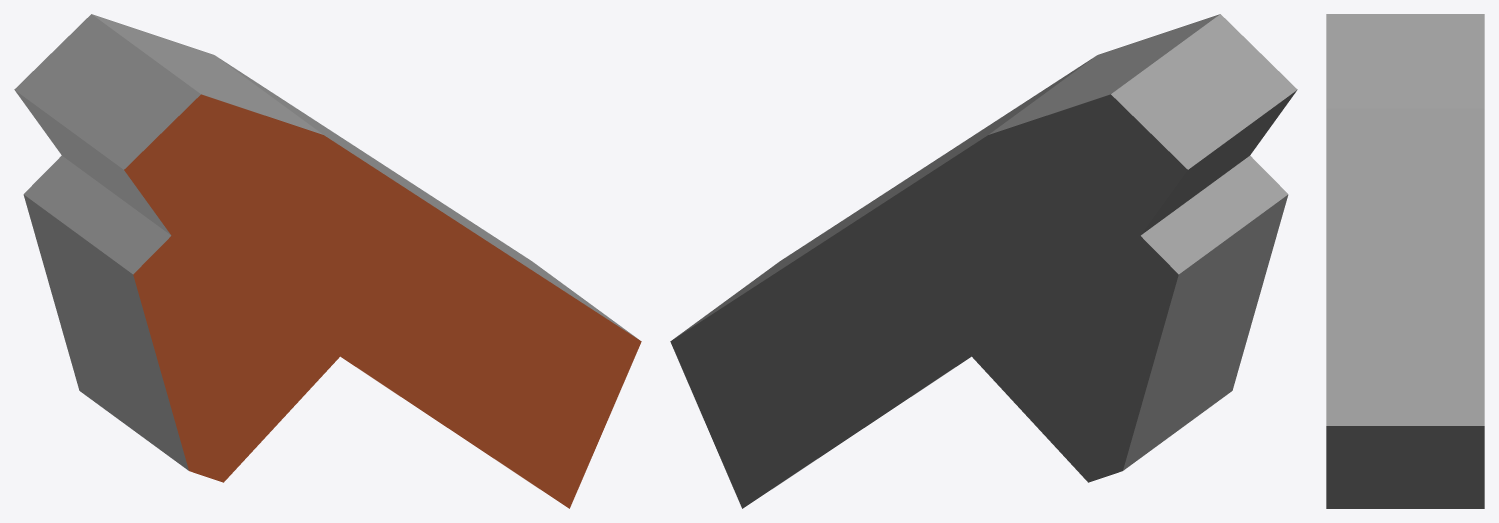
Rendered from construction_5663_assumed_A_Casa_h6m.obj.
The picture shows the model from 3 angles, left to right: view 1: azimuth 30°, elevation 25°; view 2: azimuth 150°, elevation 25°; view 3: azimuth 270°, elevation 25°; orthographic projection. The views are drawn at different scales.
Parts seen in each view (by area): view 1: construction_5663_assumed_A_Casa; view 2: construction_5663_assumed_A_Casa; view 3: construction_5663_assumed_A_Casa.
Part boxes in pixels (x1=…): construction_5663_assumed_A_Casa: x1=14, y1=14, x2=641, y2=508; construction_5663_assumed_A_Casa: x1=670, y1=14, x2=1297, y2=508; construction_5663_assumed_A_Casa: x1=1326, y1=14, x2=1484, y2=508.
Bounding box in the file's own units: 16.35 × 15.23 × 6.
